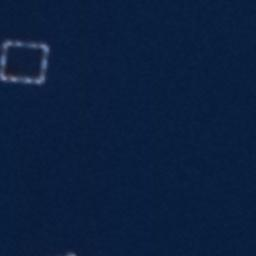square_solid: (1, 34, 55, 90)
